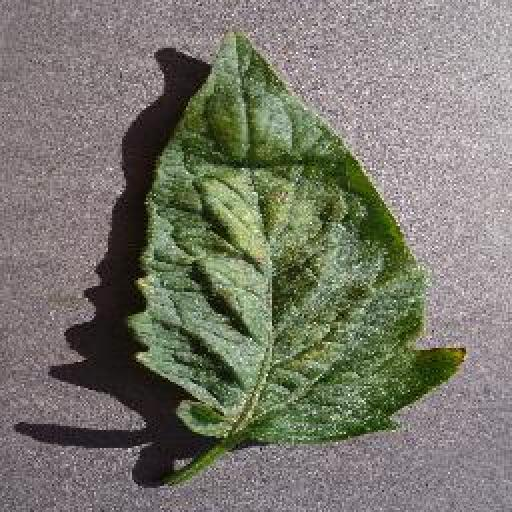Spider Mites: (128, 28, 468, 453)
